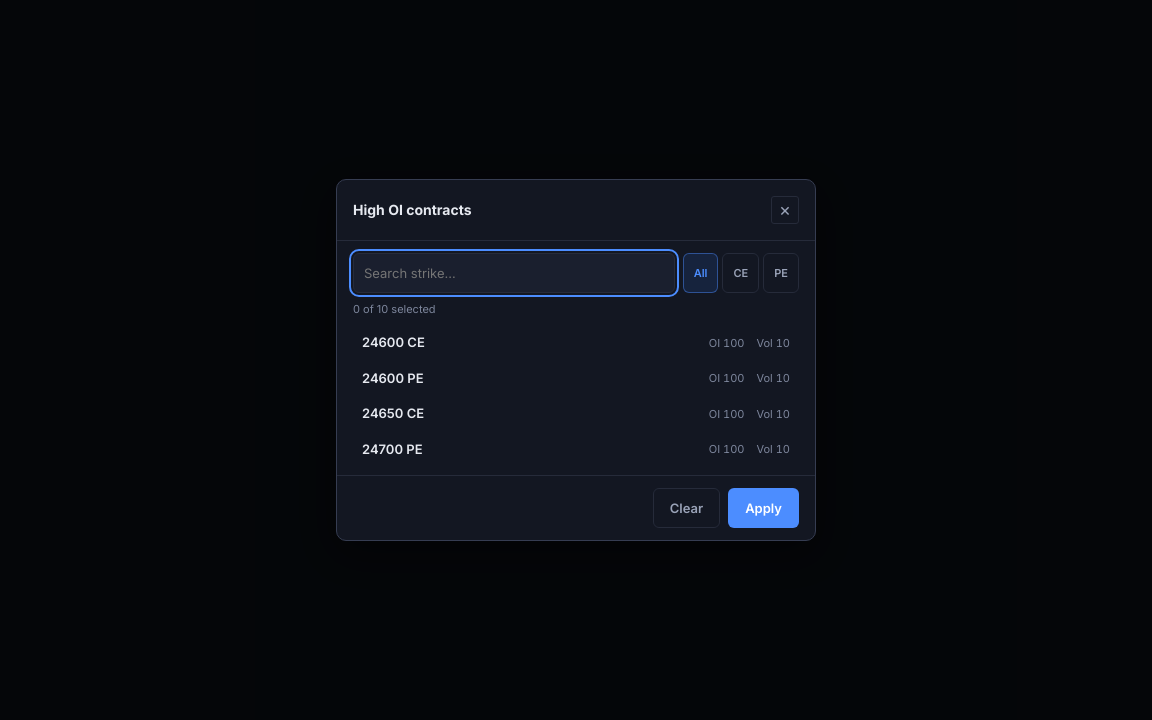
Test: ContractPicker › says so when nothing matches
Type "99999" into the search field labelled "Search strike" at {"x": 514, "y": 273}, box [353, 253, 675, 293]
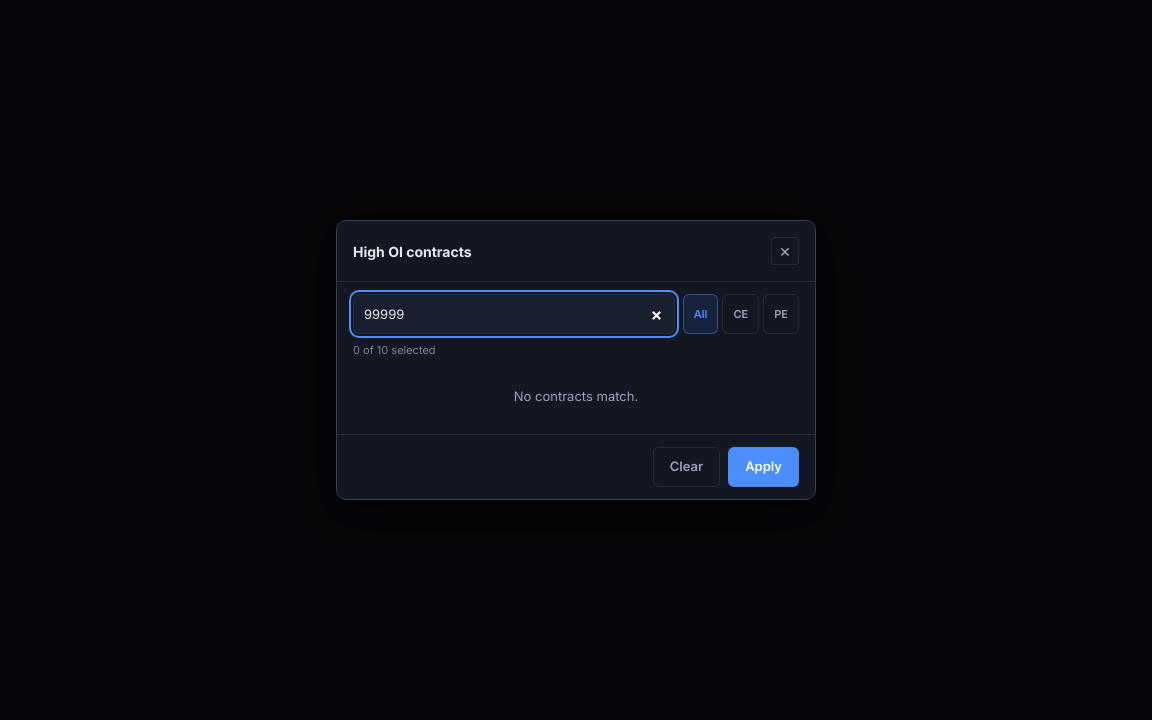
Now the list item "No contracts match." is shown, box [514, 388, 638, 404]
